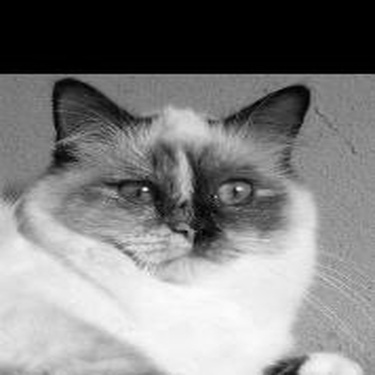cat: (2, 79, 368, 372)
